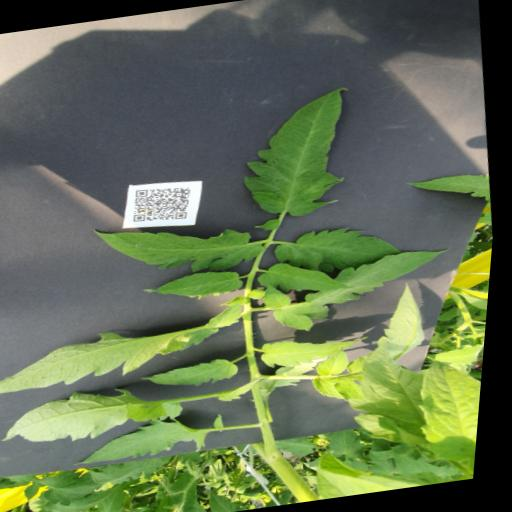Healthy: (0, 300, 258, 396), (231, 84, 368, 224), (259, 244, 462, 338), (304, 277, 442, 404), (93, 204, 274, 288), (4, 376, 193, 450), (340, 331, 443, 457), (411, 350, 490, 486), (273, 216, 410, 280), (74, 412, 220, 469), (258, 252, 359, 301), (263, 328, 377, 370), (142, 266, 252, 308), (143, 354, 247, 394), (405, 170, 496, 212), (44, 465, 116, 510), (94, 455, 182, 488), (397, 447, 448, 479), (331, 427, 375, 460), (87, 483, 137, 512), (280, 434, 326, 460), (212, 486, 246, 512), (28, 482, 51, 502)
